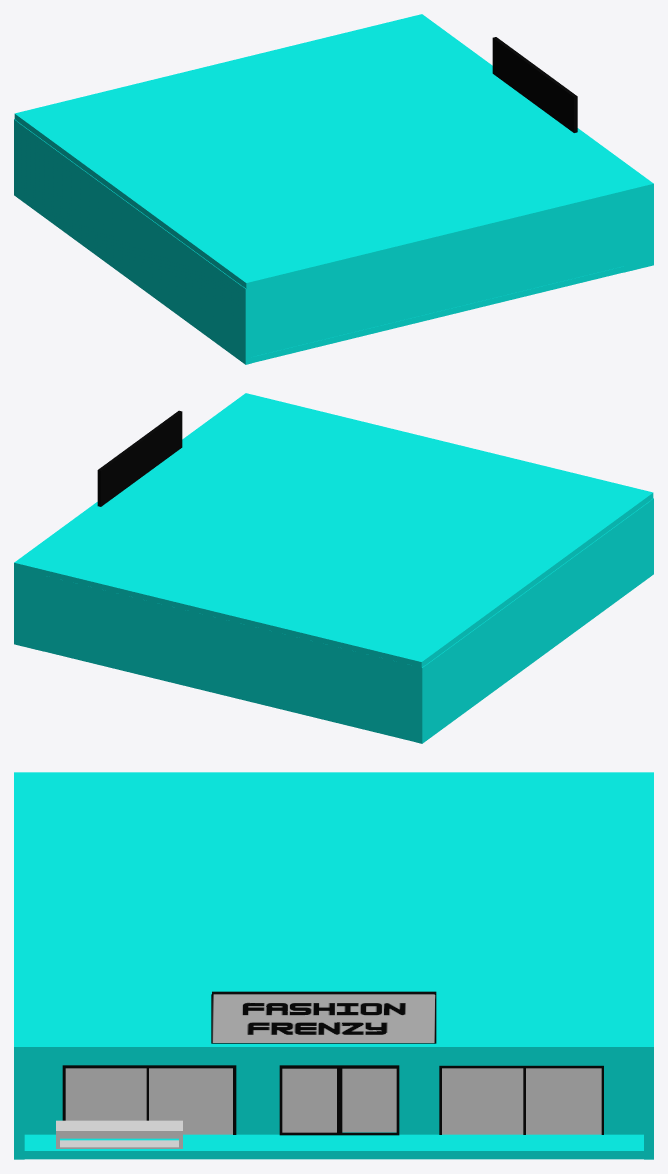
Rendered from KedaiFix.fbx.
The picture shows the model from 3 angles, top to bottom: view 1: azimuth 30°, elevation 25°; view 2: azimuth 150°, elevation 25°; view 3: azimuth 270°, elevation 25°; orthographic projection. The views are drawn at different scales.
Visible parts, largest first — view 1: Cube.004, Cube.001, Dinding, Signboard.001, Cube, Cube.002; view 2: Cube.004, Cube.003, Dinding, Signboard.001, Cube.002; view 3: Cube.004, Cube.002, Cube, Signboard.001, bangku.001.
Part boxes in pixels (box(x1,y1,x2,y2)): Cube.004: box(14, 14, 653, 288); Cube.001: box(242, 197, 623, 356); Dinding: box(14, 119, 251, 364); Signboard.001: box(492, 37, 577, 132); Cube: box(246, 259, 653, 364); Cube.002: box(623, 189, 653, 272); Cube.004: box(14, 393, 653, 667); Cube.003: box(38, 574, 425, 743); Dinding: box(420, 498, 653, 743); Signboard.001: box(97, 410, 182, 506); Cube.002: box(14, 568, 38, 649); Cube.004: box(14, 772, 653, 1055); Cube.002: box(14, 1055, 653, 1159); Cube: box(24, 1134, 643, 1159); Signboard.001: box(211, 991, 436, 1043); bangku.001: box(56, 1120, 182, 1148).
Bounding box in the file's own units: 1206 × 333 × 1186.
